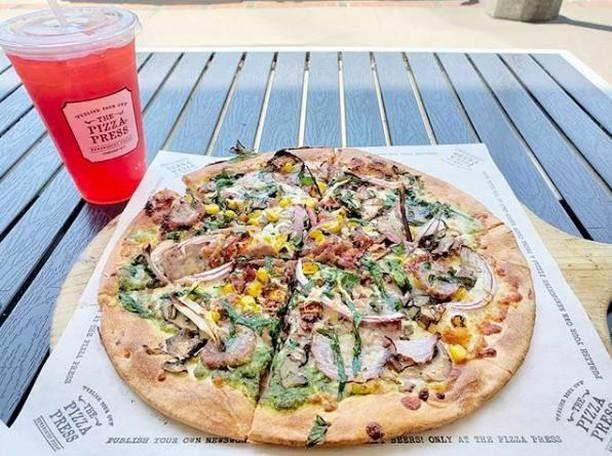Corn: (248, 268, 271, 295), (451, 344, 463, 360), (309, 230, 324, 241), (303, 262, 316, 274), (334, 211, 348, 222), (322, 224, 340, 232), (265, 209, 278, 220), (205, 205, 219, 213), (228, 200, 238, 210), (317, 183, 327, 193), (283, 162, 292, 171)
Ham: (384, 330, 444, 368), (316, 235, 368, 270), (159, 195, 204, 225), (288, 205, 324, 234), (229, 242, 275, 259)
Mushroom: (201, 331, 257, 366), (161, 360, 187, 376)
Onion: (458, 246, 496, 310), (336, 307, 404, 325), (180, 261, 233, 283), (147, 251, 169, 284)
Pizza: (97, 150, 537, 449)
